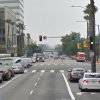crosswalk: (23, 69, 65, 72)
